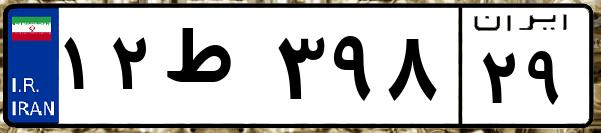1: (57, 26, 110, 100)
2: (475, 38, 525, 113), (110, 28, 158, 98)
3: (270, 28, 330, 110)
8: (385, 28, 445, 110)
9: (330, 28, 385, 110), (525, 38, 570, 115)
ط: (158, 20, 270, 120)
